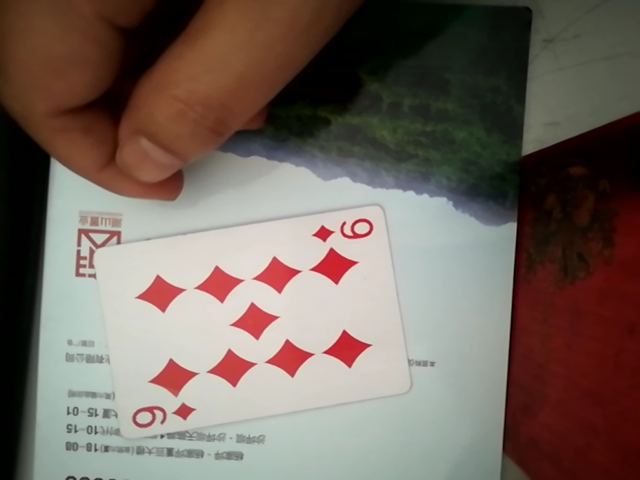fk 9: (91, 198, 413, 444)
